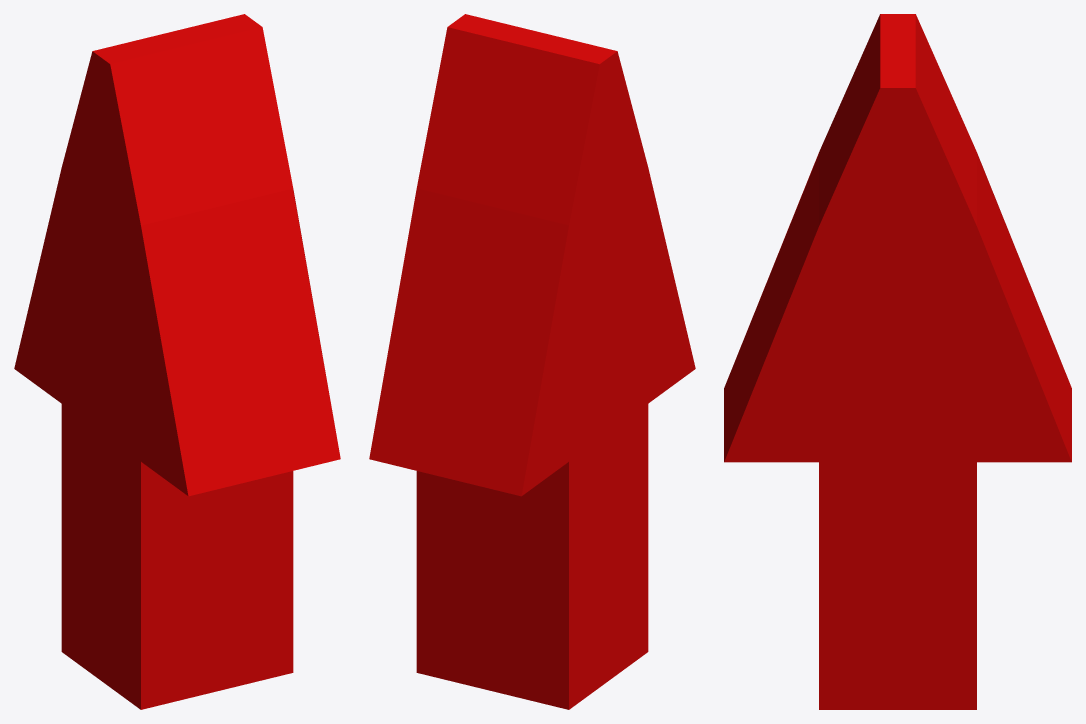
The model's file is flecha.fbx.
3 renders of one model, left to right at view 1: azimuth 30°, elevation 25°; view 2: azimuth 150°, elevation 25°; view 3: azimuth 270°, elevation 25°, orthographic.
Parts seen in each view (by area): view 1: Cube; view 2: Cube; view 3: Cube.
Boxes of the visible parts, box(x1,y1,x2,y2) form: Cube: box(14, 14, 340, 709); Cube: box(369, 14, 695, 709); Cube: box(724, 14, 1071, 709).
Size of the model in its own units: 66.53 by 260 by 132.
